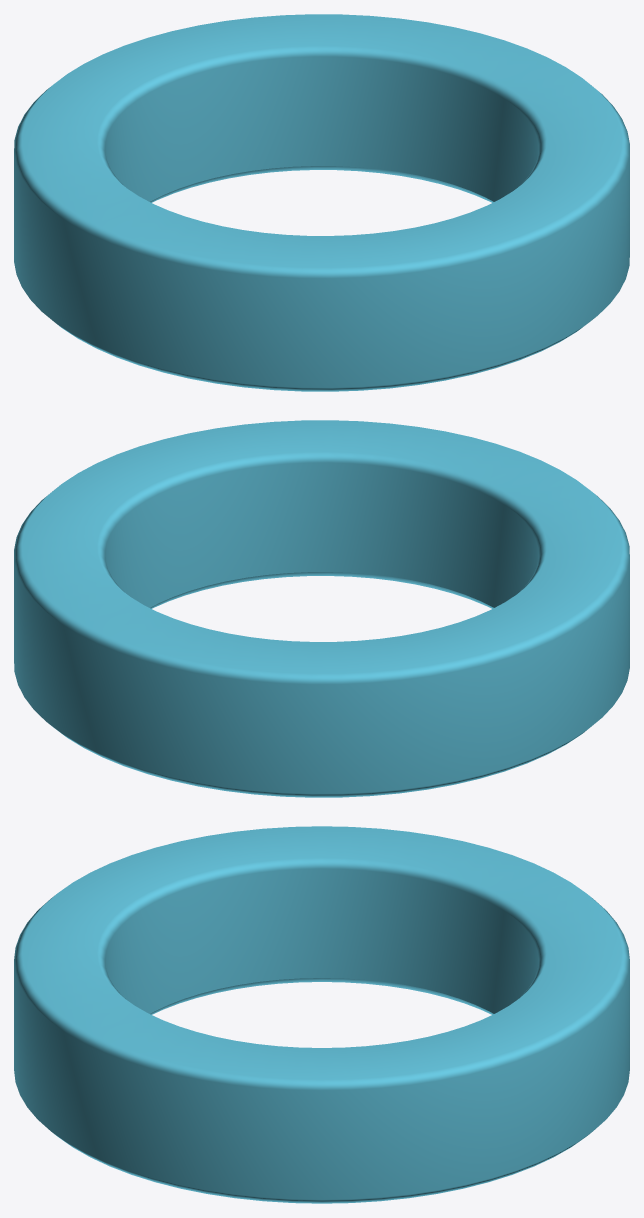
3 views of the same model, one above another, from view 1: azimuth 30°, elevation 25°; view 2: azimuth 150°, elevation 25°; view 3: azimuth 270°, elevation 25° (orthographic).
Visible parts, largest first — view 1: seal_body; view 2: seal_body; view 3: seal_body.
Boxes of the visible parts, <box> form: seal_body: <box>14,14,629,391</box>; seal_body: <box>14,420,629,797</box>; seal_body: <box>14,826,629,1203</box>.
Bounding box in the file's own units: 0.0428 × 0.00952 × 0.0428.
